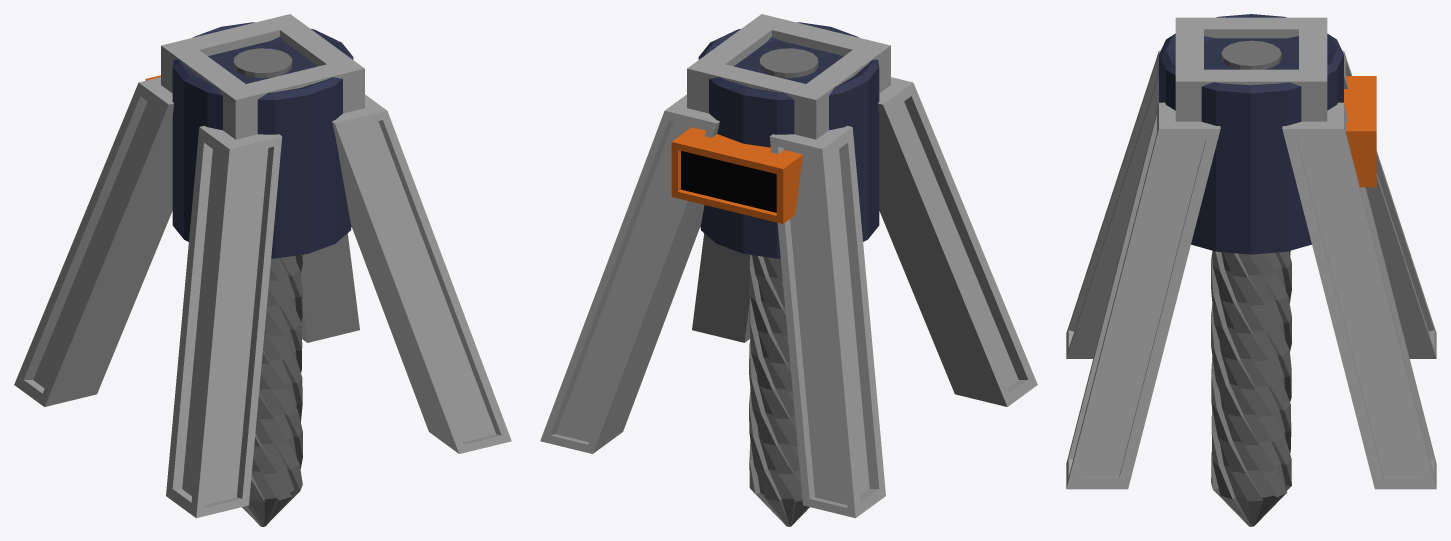
File: miner.fbx
3 renders of one model, left to right at view 1: azimuth 30°, elevation 25°; view 2: azimuth 150°, elevation 25°; view 3: azimuth 270°, elevation 25°, orthographic.
Parts seen in each view (by area): view 1: miner_base, miner_casing, miner_drill; view 2: miner_base, miner_casing, miner_drill; view 3: miner_base, miner_casing, miner_drill.
Part boxes in pixels (x1,y1,x2,y2): miner_base: (14,14,511,518); miner_casing: (145,22,353,258); miner_drill: (233,48,302,526); miner_base: (540,14,1037,518); miner_casing: (671,22,879,258); miner_drill: (749,48,818,526); miner_base: (1066,17,1436,489); miner_casing: (1159,14,1376,254); miner_drill: (1211,40,1291,526).
Size of the model in its own units: 240 by 341 by 240.
